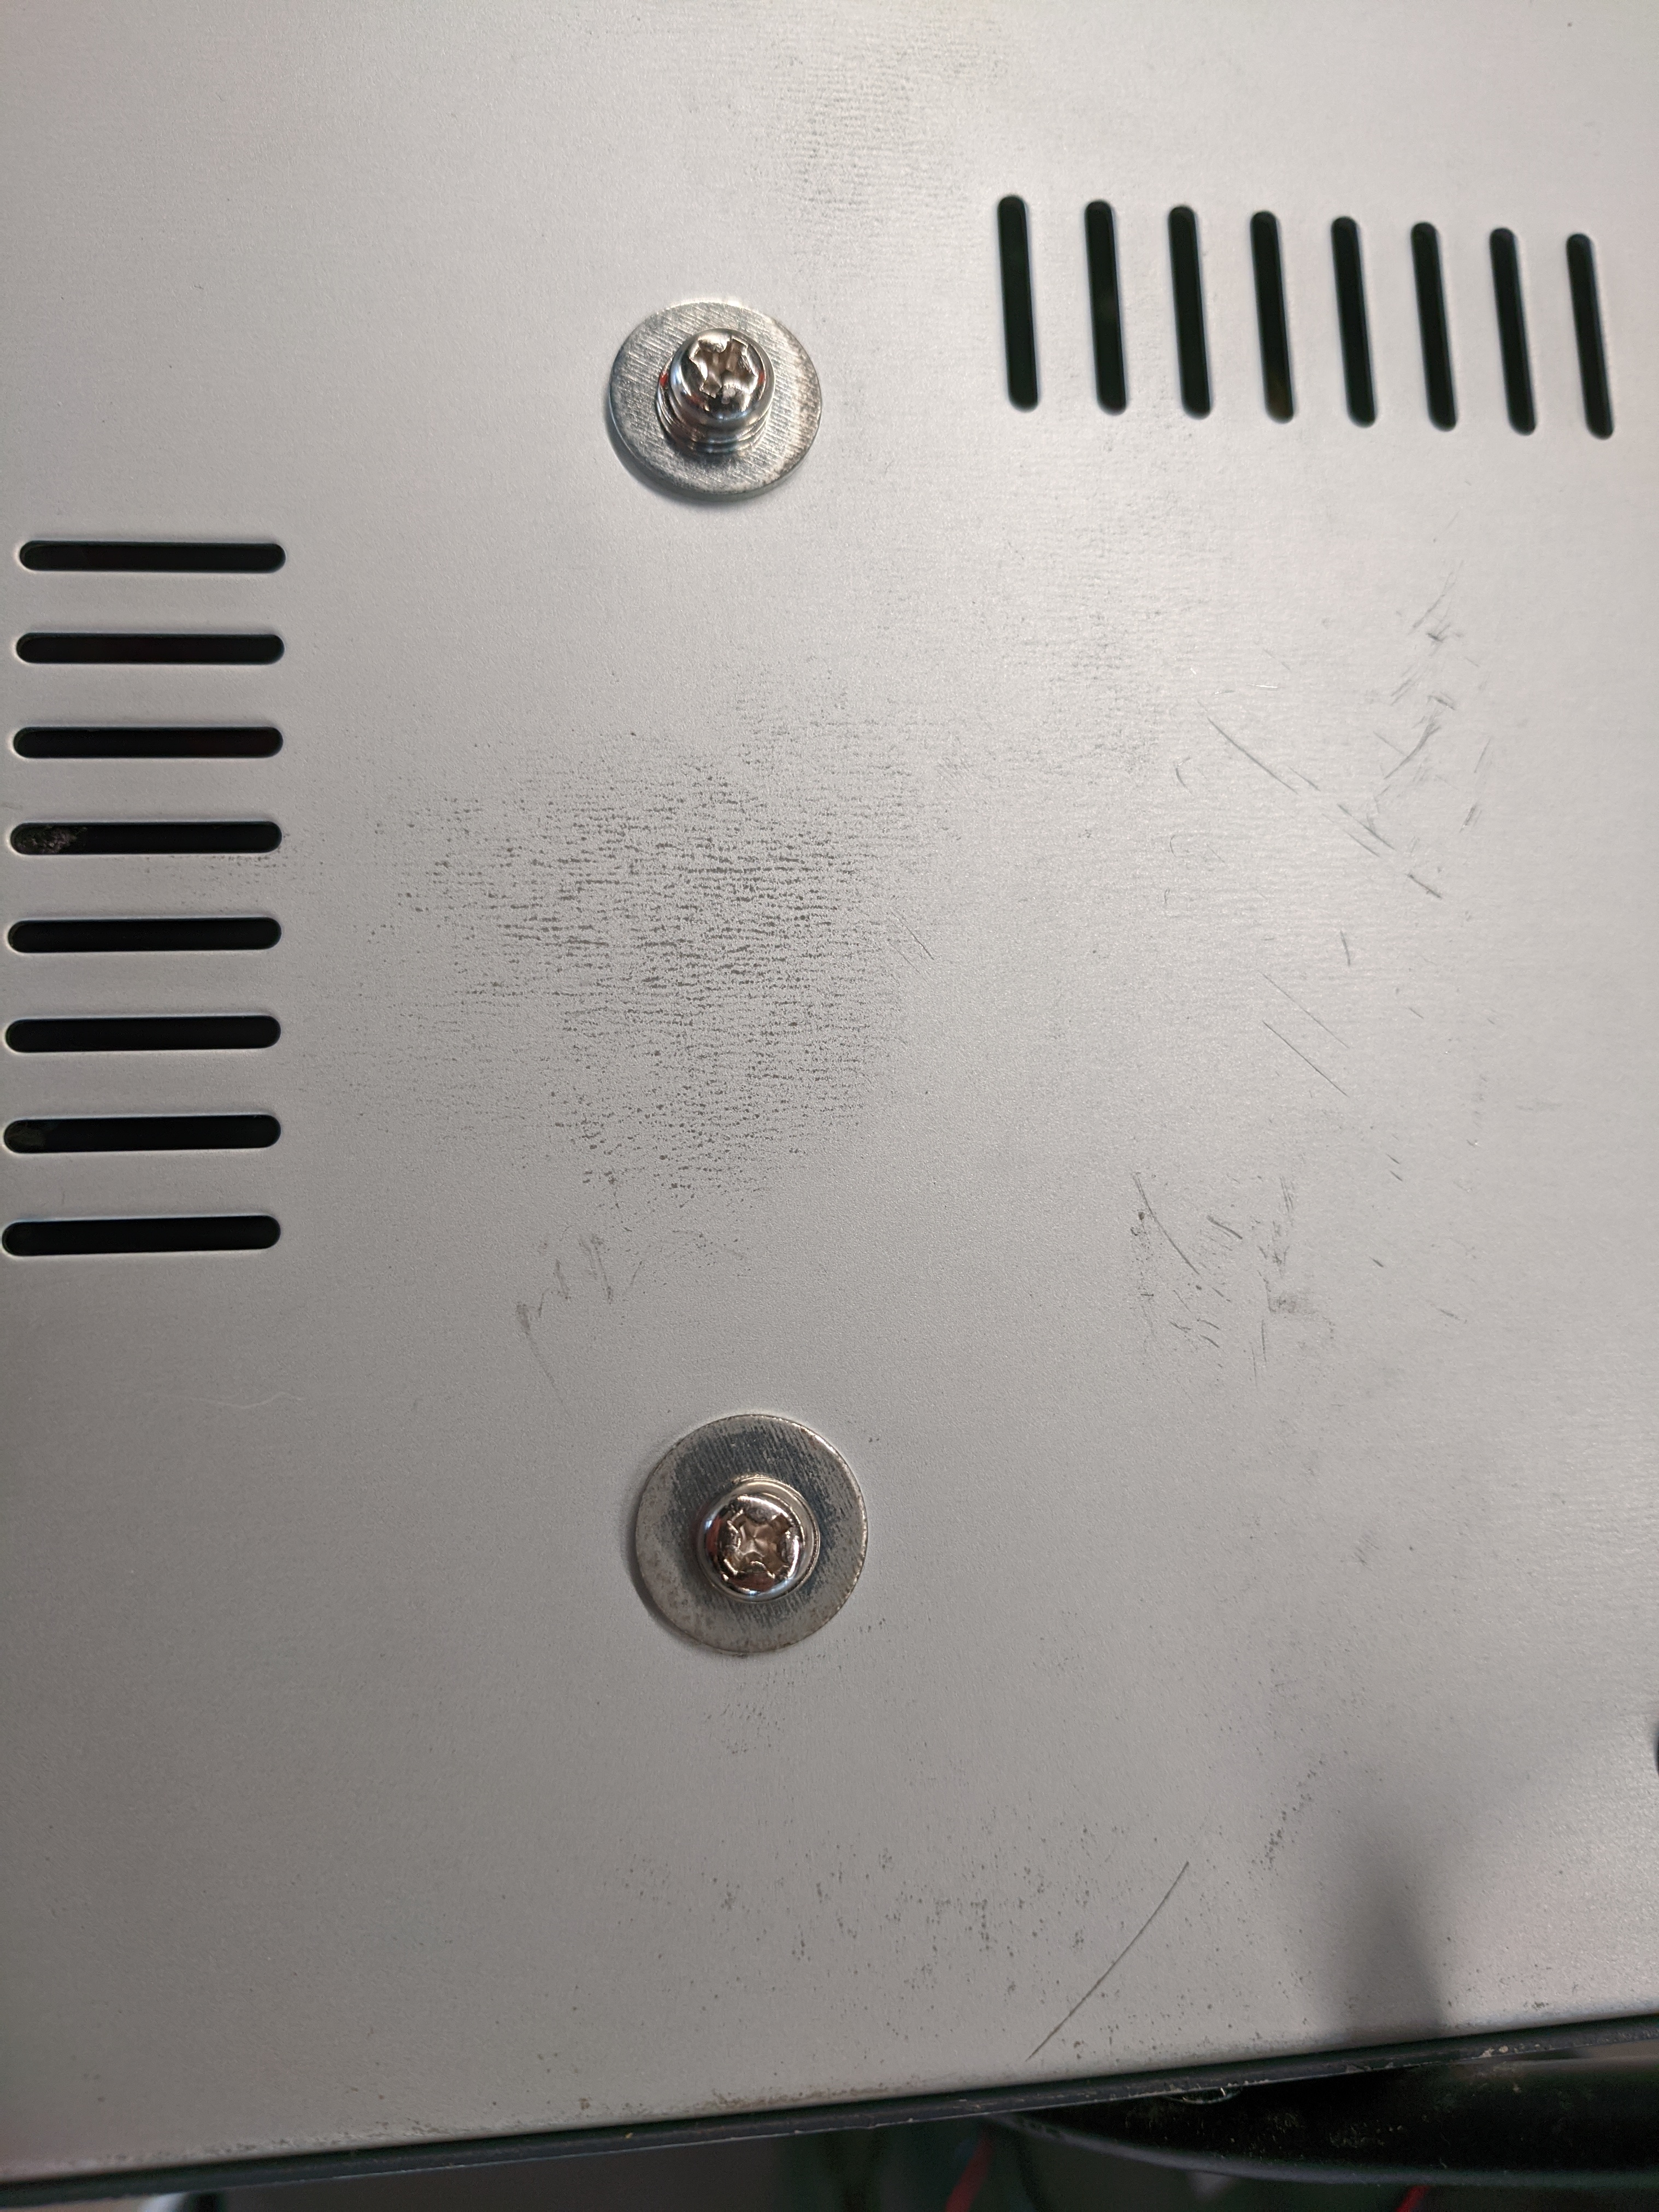cross_recessed_screw: (687, 1463, 817, 1602), (659, 314, 772, 428)
